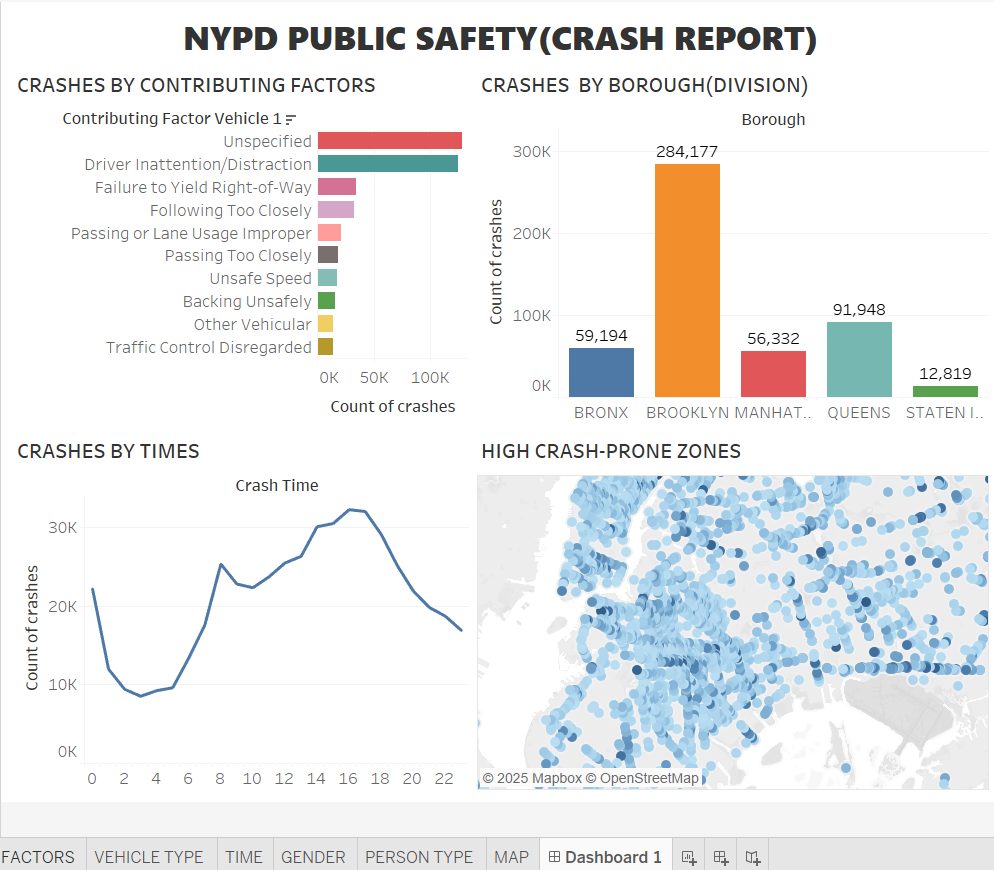

The page's visual inventory and layout, read from the dashboard file:
{"tool":"tableau","page":{"name":"Dashboard 1","canvas":[1000,800],"ordinal":0},"visuals":[{"type":"title","box":[8,8,984,52]},{"type":"worksheet","title":"FACTORS","mark":"Automatic","rows":["contributing_factor_vehicle_1"],"cols":["crashes_EEA17511435747429C81EEB7395DF548"],"box":[8,60,464,366]},{"type":"worksheet","title":"BOROUGH","mark":"Automatic","rows":["crashes_EEA17511435747429C81EEB7395DF548"],"cols":["borough"],"box":[472,60,520,366]},{"type":"worksheet","title":"TIME","mark":"Automatic","rows":["crashes_EEA17511435747429C81EEB7395DF548"],"cols":["crash_time"],"box":[8,426,464,366]},{"type":"worksheet","title":"MAP","mark":"Automatic","rows":["latitude"],"cols":["longitude"],"box":[472,426,520,366]}]}

Visuals, with their boxes on the page's 1000x800 design canvas (x1, y1, x2, y2). These are canvas units, not pixel positions in the 994x870 screenshot, which may show the page scaled, cropped or inside an application window:
title: box(8, 8, 992, 60)
"FACTORS" worksheet: box(8, 60, 472, 426)
"BOROUGH" worksheet: box(472, 60, 992, 426)
"TIME" worksheet: box(8, 426, 472, 792)
"MAP" worksheet: box(472, 426, 992, 792)
